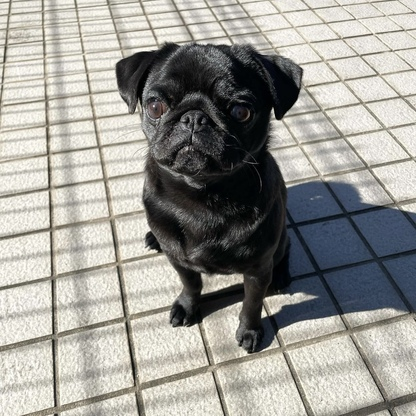Pug: (111, 36, 309, 362)
